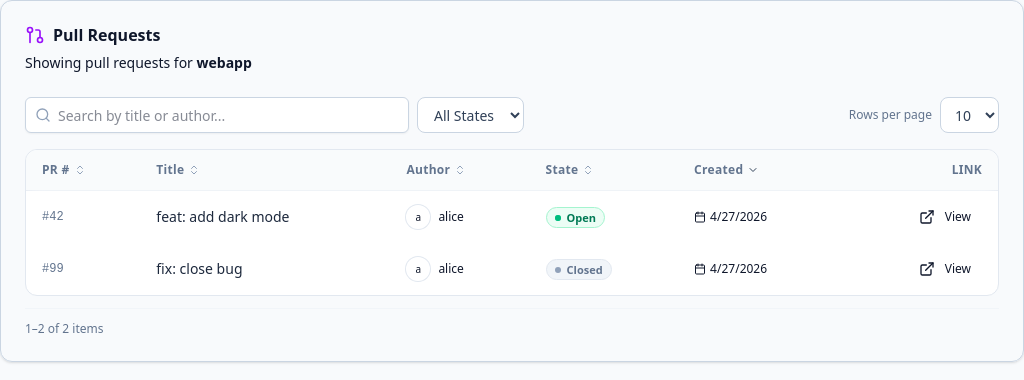
Test: GitOpsPRs › filters by state when user selects 'Closed' from the state dropdown
Expected: the text "feat: add dark mode" is shown, [156, 207, 290, 226]
Select "Closed" in the 1st dropdown showing "all states" at (470, 115), box [417, 97, 524, 133]
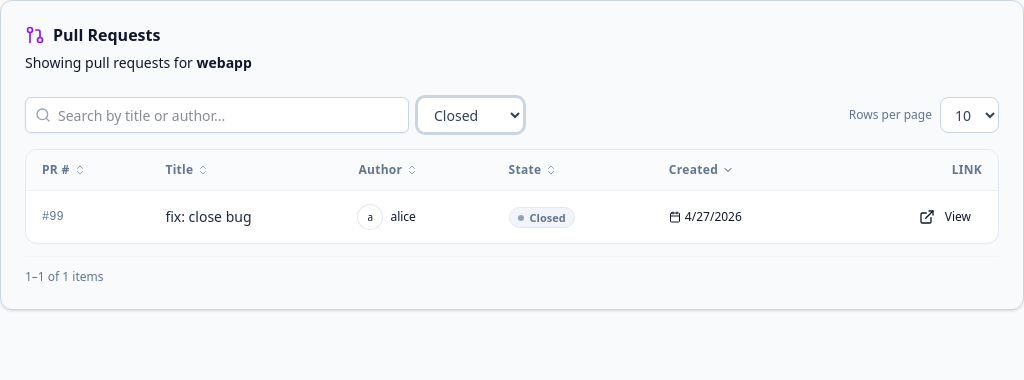
Expected: the link "feat: add dark mode" is gone
Expected: the text "fix: close bug" is shown, [165, 207, 252, 226]
